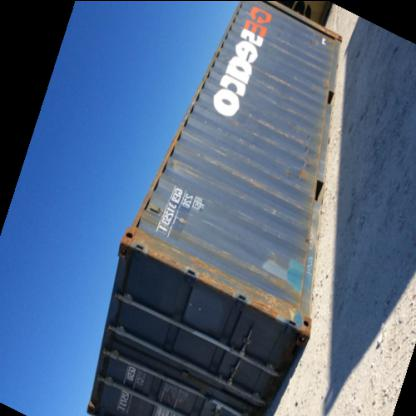Damage: (126, 220, 304, 322), (240, 110, 320, 157), (196, 155, 268, 195), (250, 63, 298, 94), (280, 162, 310, 190), (159, 152, 191, 178), (266, 32, 296, 52), (299, 55, 325, 71), (312, 34, 338, 48)
